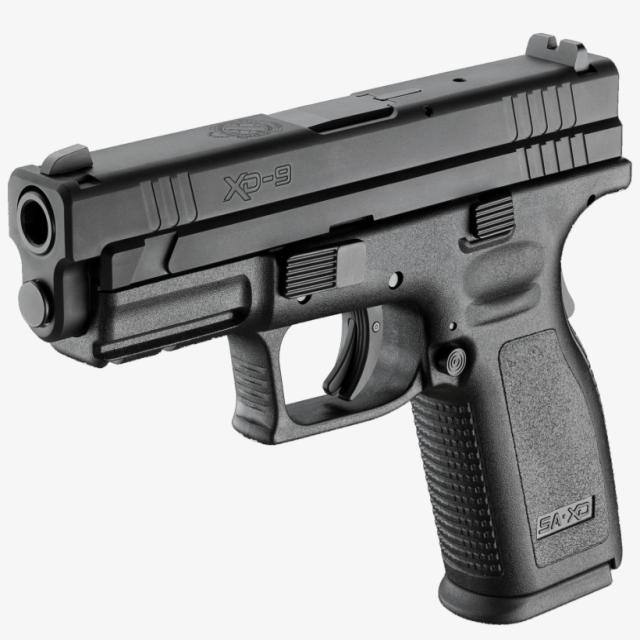HandGun: (6, 33, 635, 628)
